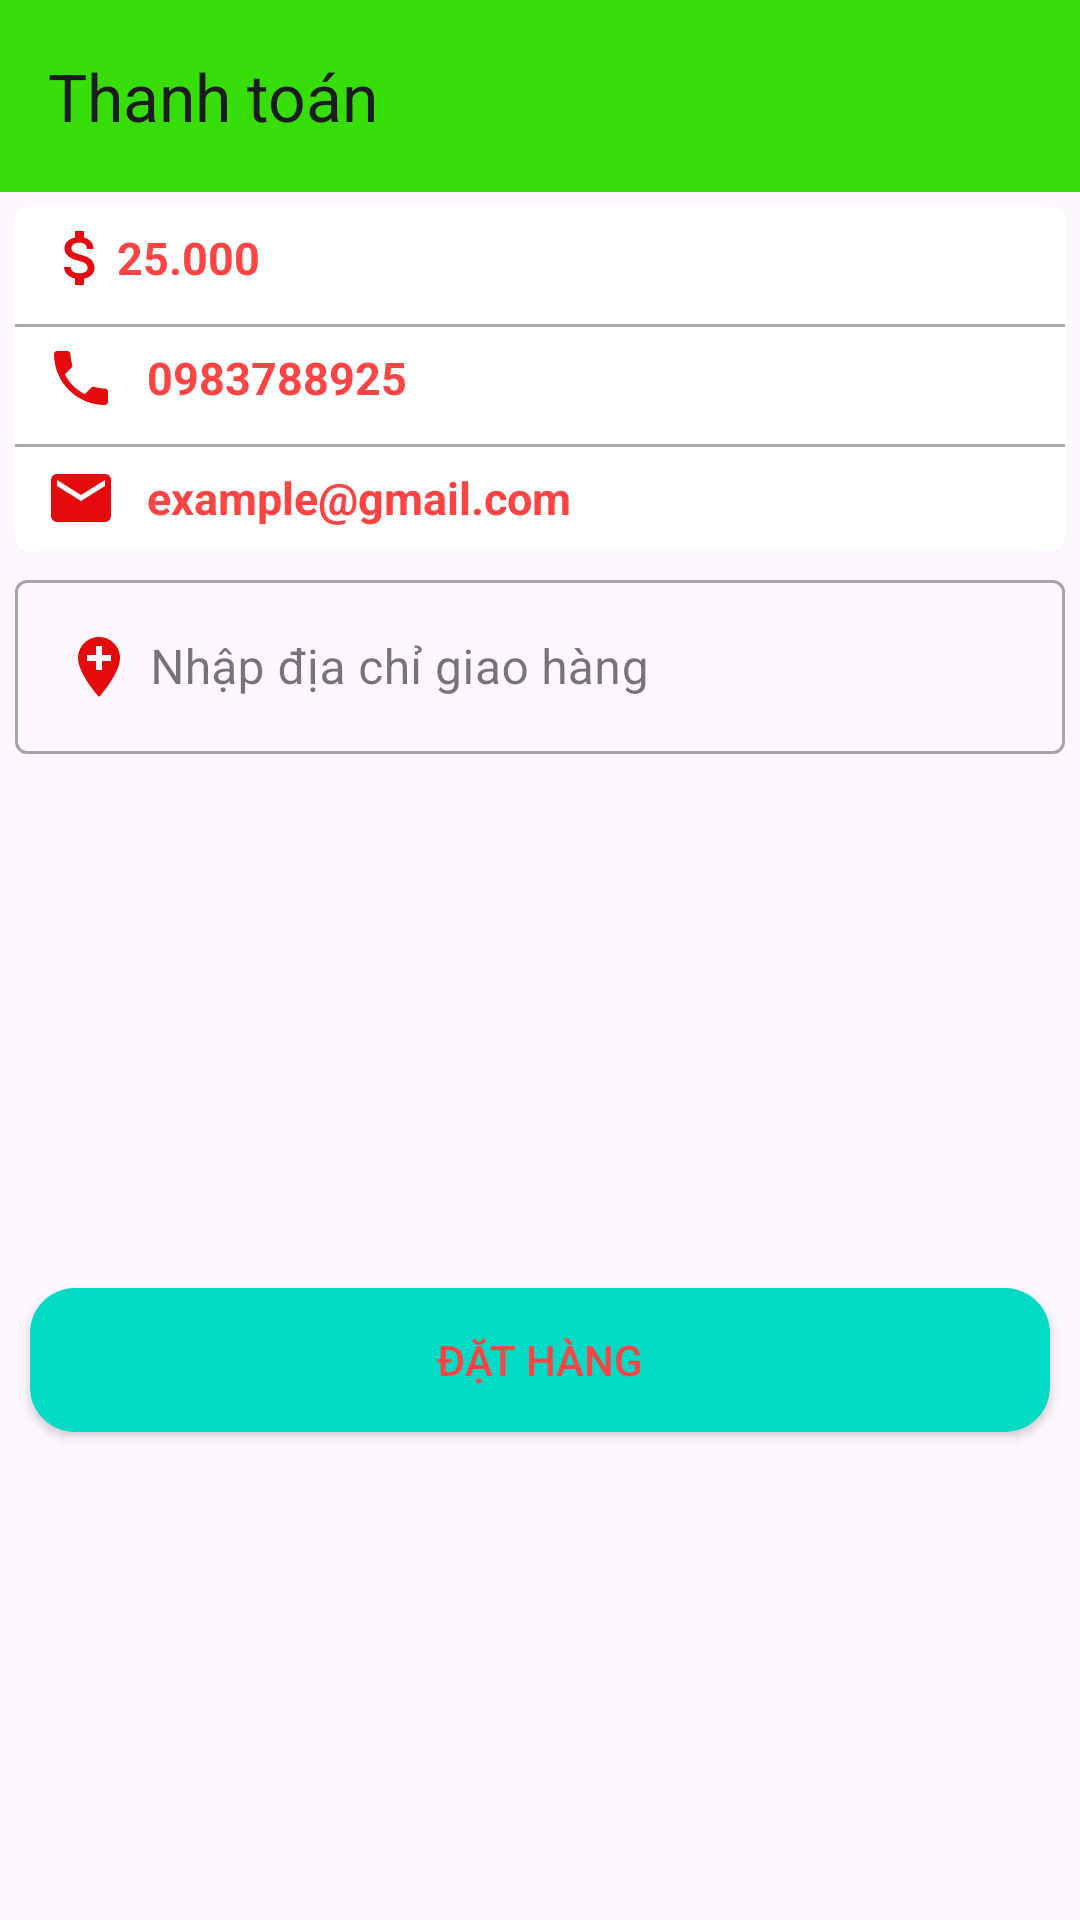

Icons on this 1080px x 1920px Android screen, each with the point to tap as [x,y]:
attach money: [79,258]
email: [81,498]
local phone: [81,378]
